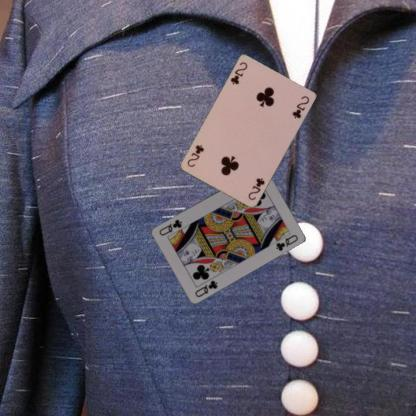2c: (246, 176, 266, 202), (228, 60, 248, 86)
Qc: (192, 277, 218, 298)
